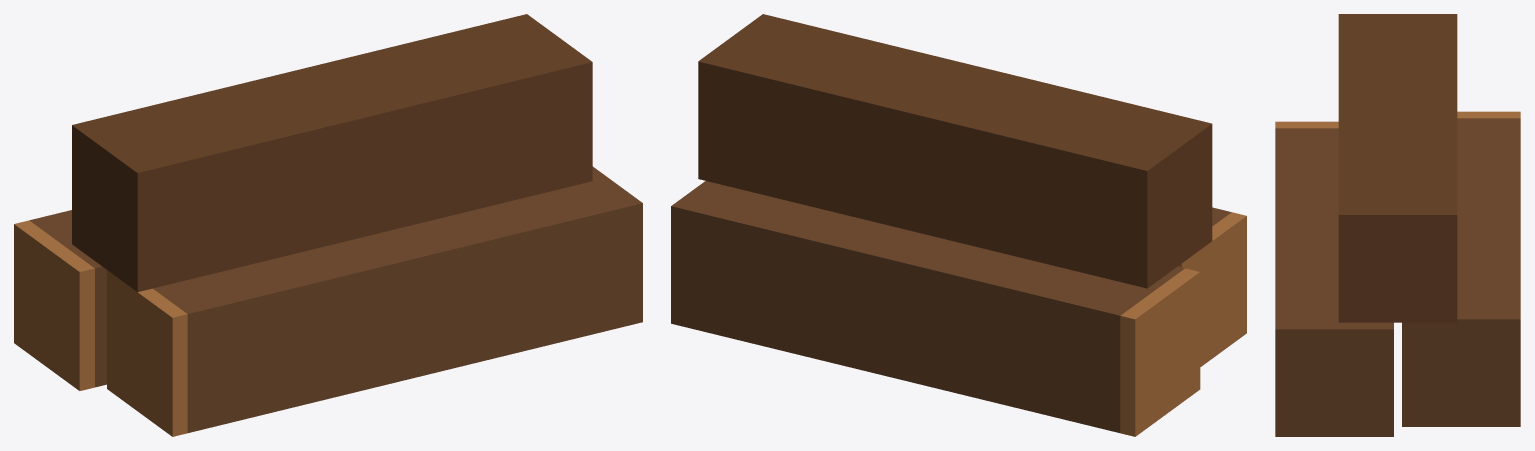
Rendered from LogPile.glb.
The picture shows the model from 3 angles, left to right: view 1: azimuth 30°, elevation 25°; view 2: azimuth 150°, elevation 25°; view 3: azimuth 270°, elevation 25°; orthographic projection. The views are drawn at different scales.
Visible parts, largest first — view 1: LogPile; view 2: LogPile; view 3: LogPile.
Boxes of the visible parts, left/top/right/bottom form: LogPile: left=14, top=14, right=642, bottom=436; LogPile: left=671, top=14, right=1246, bottom=436; LogPile: left=1275, top=14, right=1520, bottom=436.
Size of the model in its own units: 6.5 by 3 by 3.1.
Materials: 1 (1 with a texture image).
